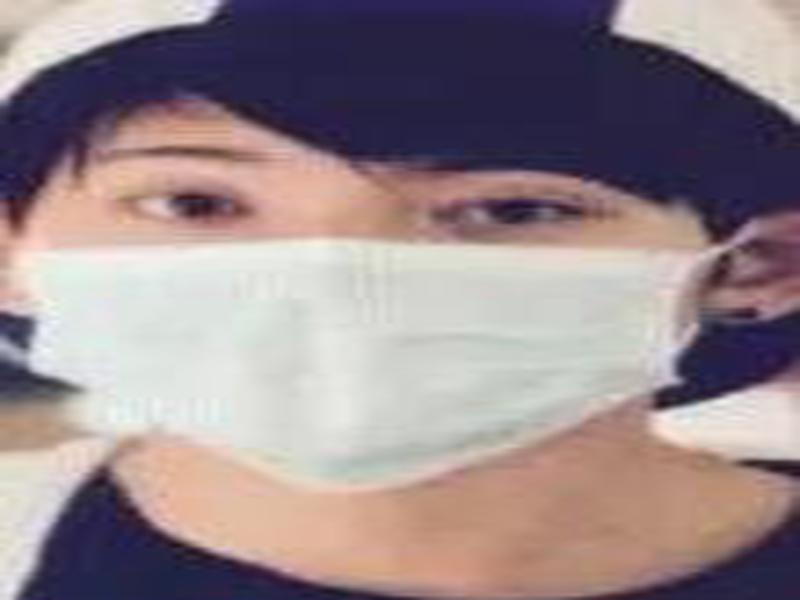with_mask: (1, 92, 746, 495)
